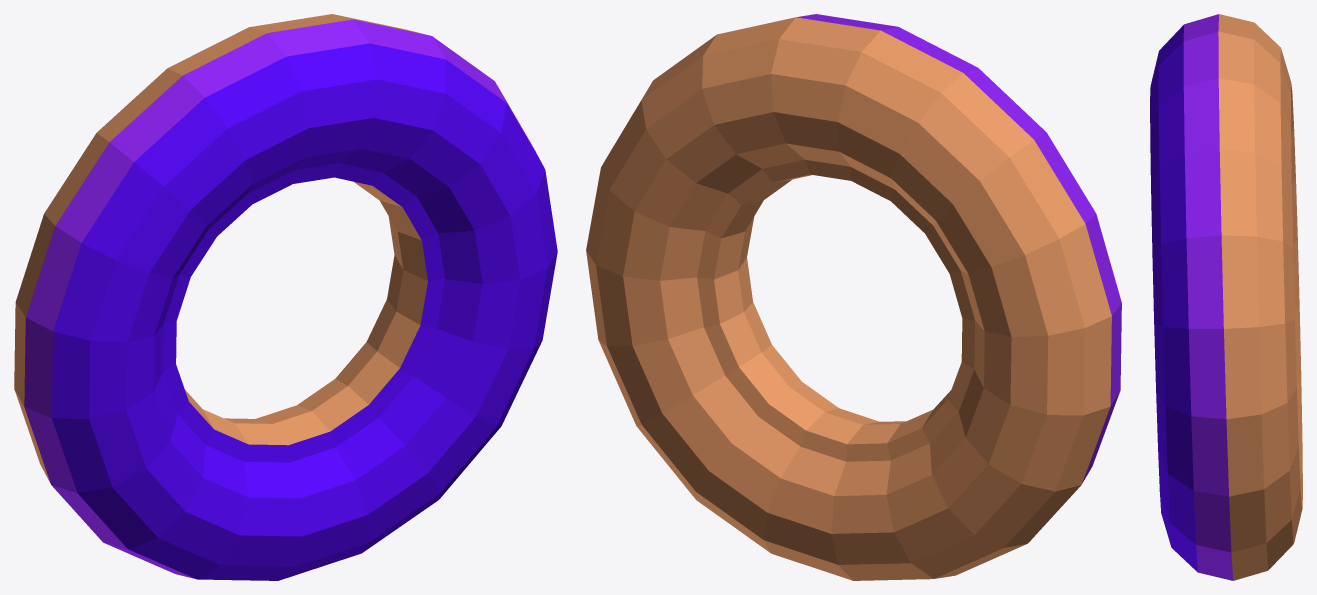
File: donut6.fbx
3 views of the same model, side by side, from view 1: azimuth 30°, elevation 25°; view 2: azimuth 150°, elevation 25°; view 3: azimuth 270°, elevation 25° (orthographic). The views are drawn at different scales.
Visible parts, largest first — view 1: Torus.001; view 2: Torus.001; view 3: Torus.001.
Part boxes in pixels (x1,y1,x2,y2): Torus.001: (14, 14, 557, 580); Torus.001: (586, 14, 1121, 580); Torus.001: (1150, 14, 1302, 580).
Size of the model in its own units: 169 by 169 by 45.59.
